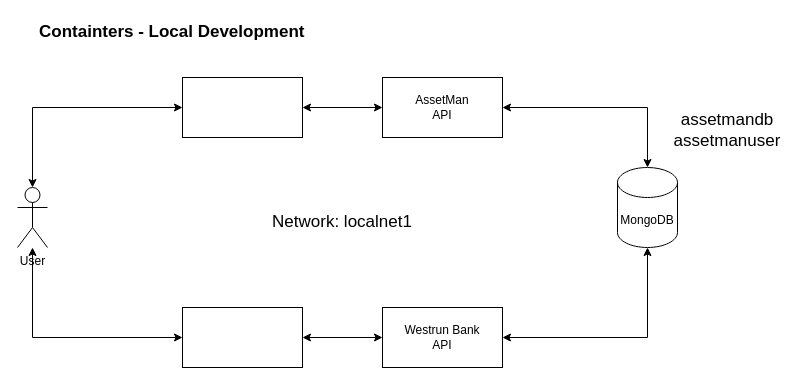
Some shapes in this 805 by 385 pixel diagram are drawn without their labels. The centre of each missing label's shape, as x and y in pixels:
"AssetMan UI5" belongs at (242,107).
"Westrun Bank UI5" belongs at (242,337).
